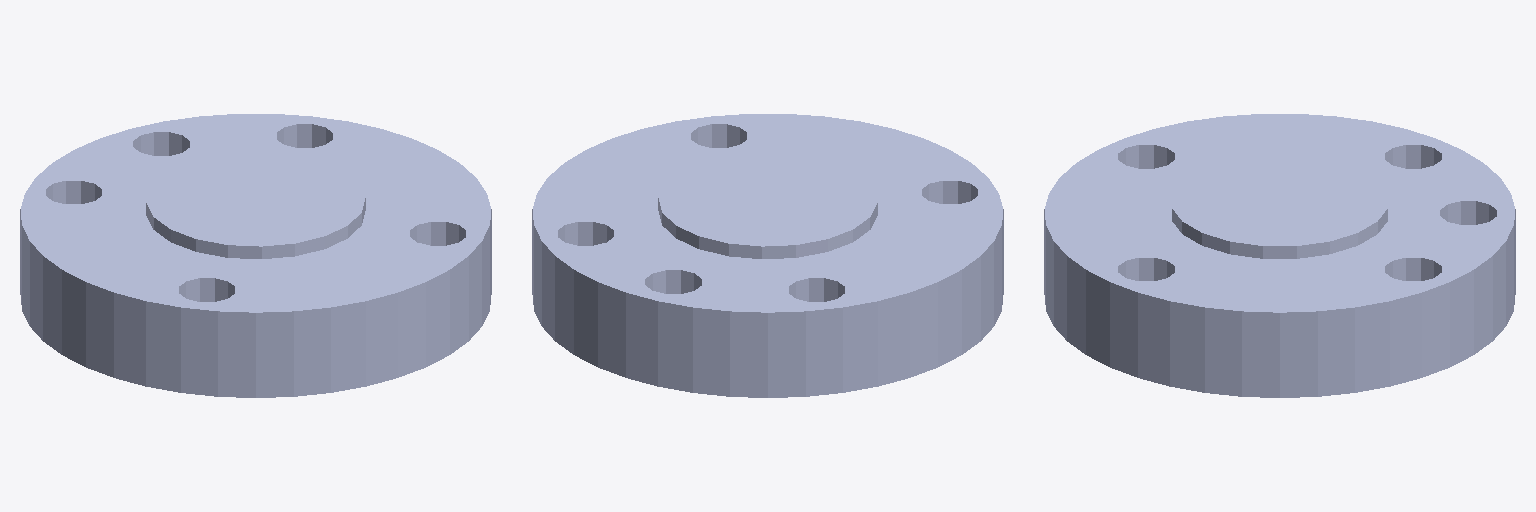
URDF robot description (link6):
<robot
  name="link6">
  <link
    name="link6_fixed_coordinate">
    <inertial>
      <origin
        xyz="-0.00075 -0.00034342 -0.00018608"
        rpy="0 0 0" />
      <mass
        value="0.016853" />
      <inertia
        ixx="2.80644119747642E-06"
        ixy="2.66387834592345E-22"
        ixz="9.08671417210683E-21"
        iyy="2.92418288601994E-06"
        iyz="-3.26381144284828E-09"
        izz="5.43699994911195E-06" />
    </inertial>
    <visual>
      <origin
        xyz="0 0 0"
        rpy="0 0 0" />
      <geometry>
        <mesh
          filename="package://link6_fixed_coordinate/meshes/link6_fixed_coordinate.STL" />
      </geometry>
      <material
        name="">
        <color
          rgba="0.79216 0.81961 0.93333 1" />
      </material>
    </visual>
    <collision>
      <origin
        xyz="0 0 0"
        rpy="0 0 0" />
      <geometry>
        <mesh
          filename="package://link6_fixed_coordinate/meshes/link6_fixed_coordinate.STL" />
      </geometry>
    </collision>
  </link>
</robot>

--- Render facts (derived) ---
Views: 3 orthographic renders of the robot side by side, from view 1: azimuth 30°, elevation 25°; view 2: azimuth 150°, elevation 25°; view 3: azimuth 270°, elevation 25°.
Robot: link6 — 1 links, 0 joints (none); root link link6_fixed_coordinate; default pose: every joint at zero.
Visible links, largest first — view 1: link6_fixed_coordinate; view 2: link6_fixed_coordinate; view 3: link6_fixed_coordinate.
Boxes of the visible links, <box> form: link6_fixed_coordinate: <box>20,114,491,397</box>; link6_fixed_coordinate: <box>532,114,1003,397</box>; link6_fixed_coordinate: <box>1044,114,1515,397</box>.
Size in the robot's own frame: 0.0499 by 0.05 by 0.0115 metres.
1 mesh visuals loaded from 1 distinct referenced files (1 binary STL).